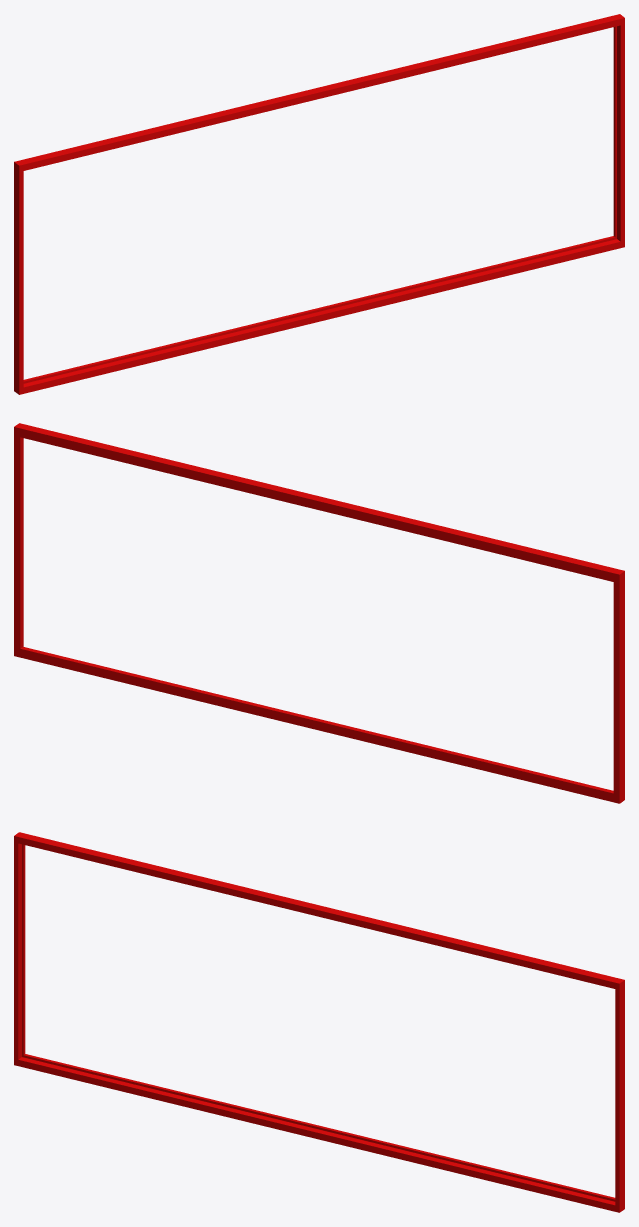
The model's file is Restaurant_01_Wall_Orn_02.fbx.
3 renders of one model, top to bottom at view 1: azimuth 30°, elevation 25°; view 2: azimuth 150°, elevation 25°; view 3: azimuth 330°, elevation 25°, orthographic.
Visible parts, largest first — view 1: Restaurant_01_Wall_Orn_02; view 2: Restaurant_01_Wall_Orn_02; view 3: Restaurant_01_Wall_Orn_02.
Boxes of the visible parts, <box> form: Restaurant_01_Wall_Orn_02: <box>14,14,624,394</box>; Restaurant_01_Wall_Orn_02: <box>14,423,624,803</box>; Restaurant_01_Wall_Orn_02: <box>14,832,624,1212</box>.
Bounding box in the file's own units: 727 × 263 × 10.93.
